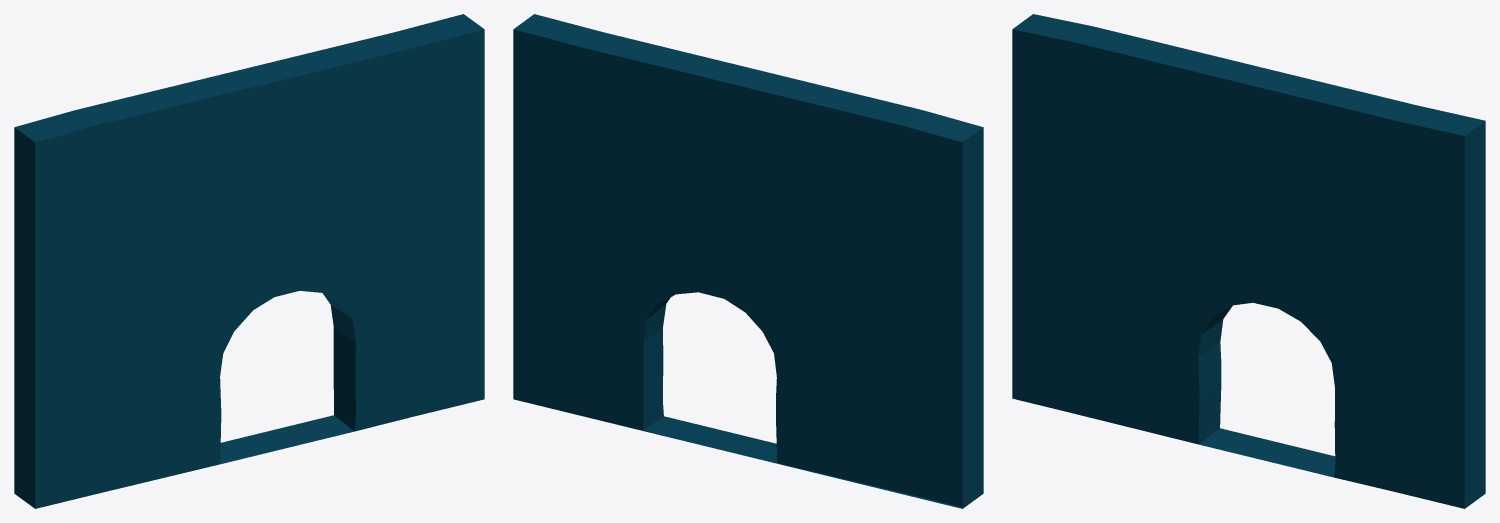
The model's file is wall .fbx.
The picture shows the model from 3 angles, left to right: view 1: azimuth 30°, elevation 25°; view 2: azimuth 150°, elevation 25°; view 3: azimuth 330°, elevation 25°; orthographic projection.
Parts seen in each view (by area): view 1: 立方体.028; view 2: 立方体.028; view 3: 立方体.028.
Boxes of the visible parts, x1,y1,x2,y2 form: 立方体.028: (14, 14, 484, 508); 立方体.028: (513, 14, 983, 508); 立方体.028: (1012, 14, 1485, 508).
Size of the model in its own units: 730 by 576 by 58.82.
1 material, 1 textured.
